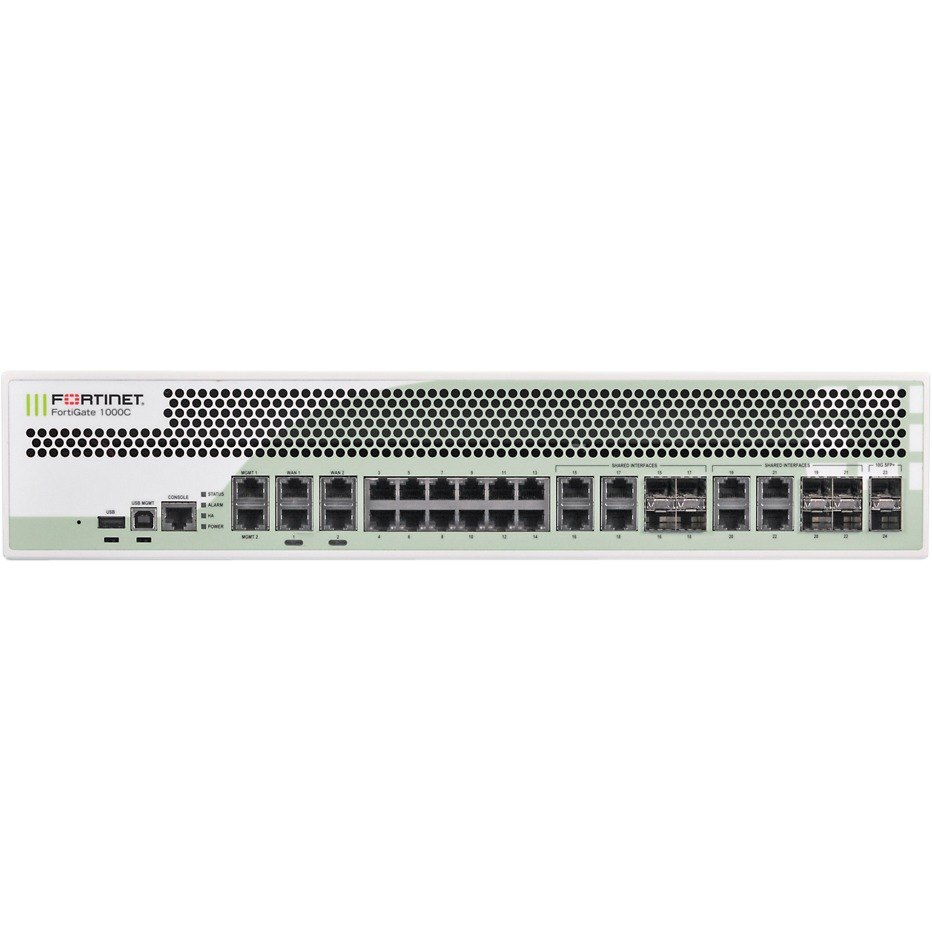Firewall: (1, 354, 932, 587)
